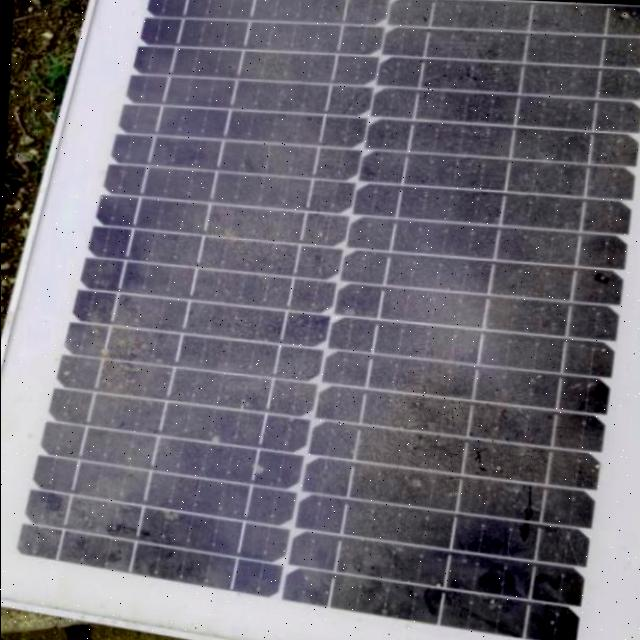Anomaly Solar Panel: (6, 0, 640, 640)
Surface Contaminant: (91, 0, 640, 617)
